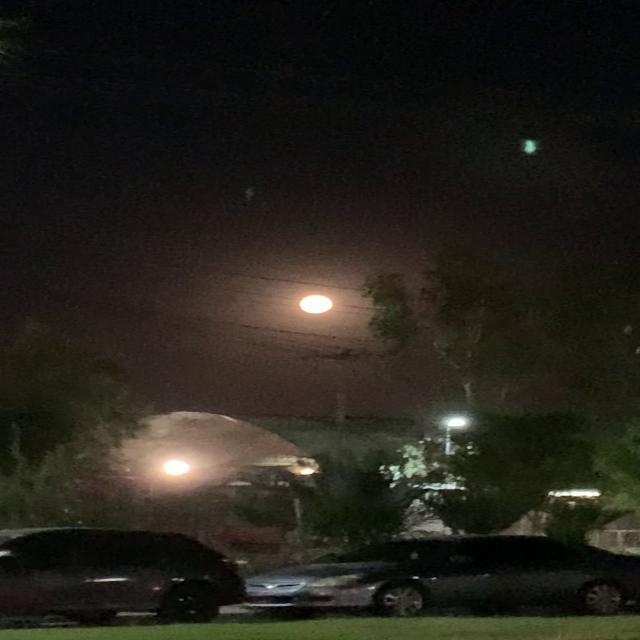moon: (297, 292, 339, 316)
